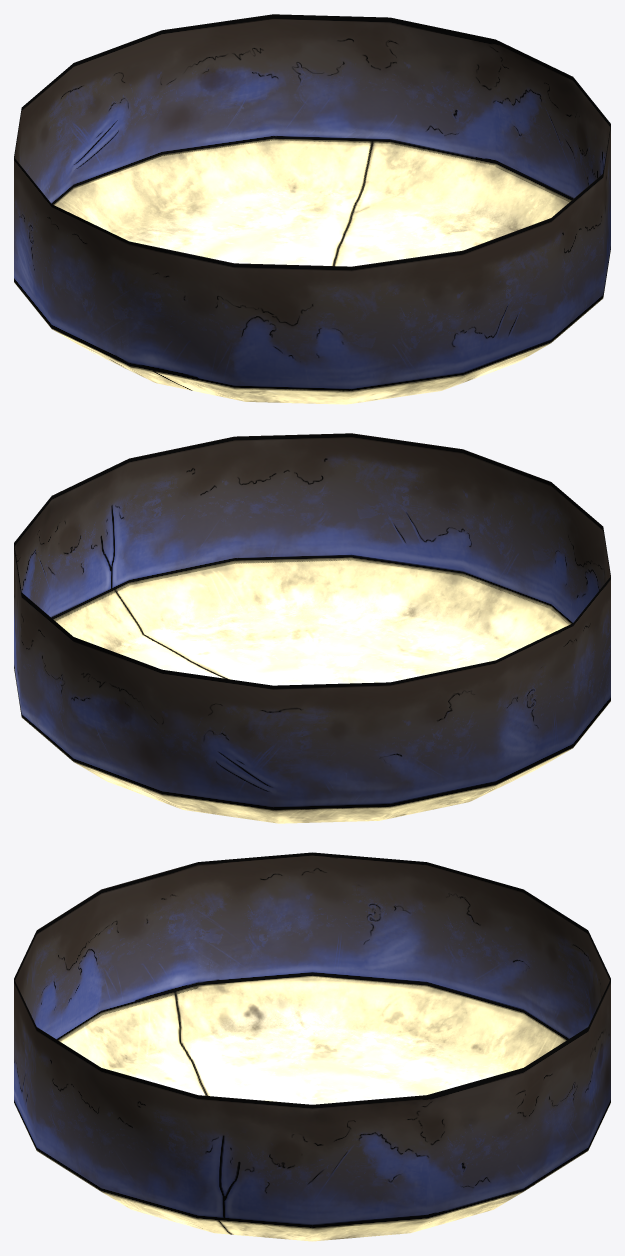
Rendered from SM_Lamp_Shallow.fbx.
3 views of the same model, one above another, from view 1: azimuth 30°, elevation 25°; view 2: azimuth 150°, elevation 25°; view 3: azimuth 270°, elevation 25° (orthographic).
Visible parts, largest first — view 1: SM_Lamp_Shallow; view 2: SM_Lamp_Shallow; view 3: SM_Lamp_Shallow.
Part boxes in pixels (x1=…): SM_Lamp_Shallow: x1=14, y1=14, x2=610, y2=404; SM_Lamp_Shallow: x1=14, y1=433, x2=610, y2=823; SM_Lamp_Shallow: x1=14, y1=852, x2=610, y2=1241.
Bounding box in the file's own units: 69.73 × 20.53 × 69.73.
